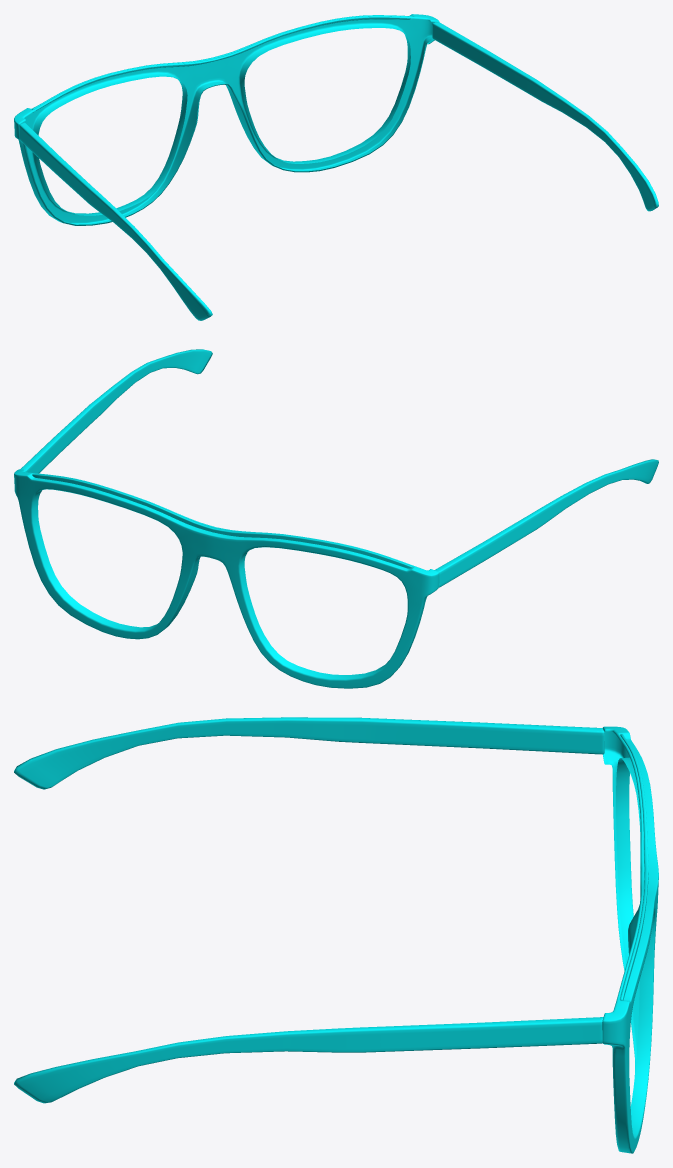
File: yellowglassesskyblue.fbx
The picture shows the model from 3 angles, top to bottom: view 1: azimuth 30°, elevation 25°; view 2: azimuth 150°, elevation 25°; view 3: azimuth 270°, elevation 25°; orthographic projection. The views are drawn at different scales.
Parts seen in each view (by area): view 1: am_body; view 2: am_body; view 3: am_body.
Part boxes in pixels (bbox=[...]): am_body: bbox=[14, 14, 658, 320]; am_body: bbox=[14, 349, 658, 688]; am_body: bbox=[14, 717, 658, 1153].
Size of the model in its own units: 16.26 by 4.9 by 13.72.
